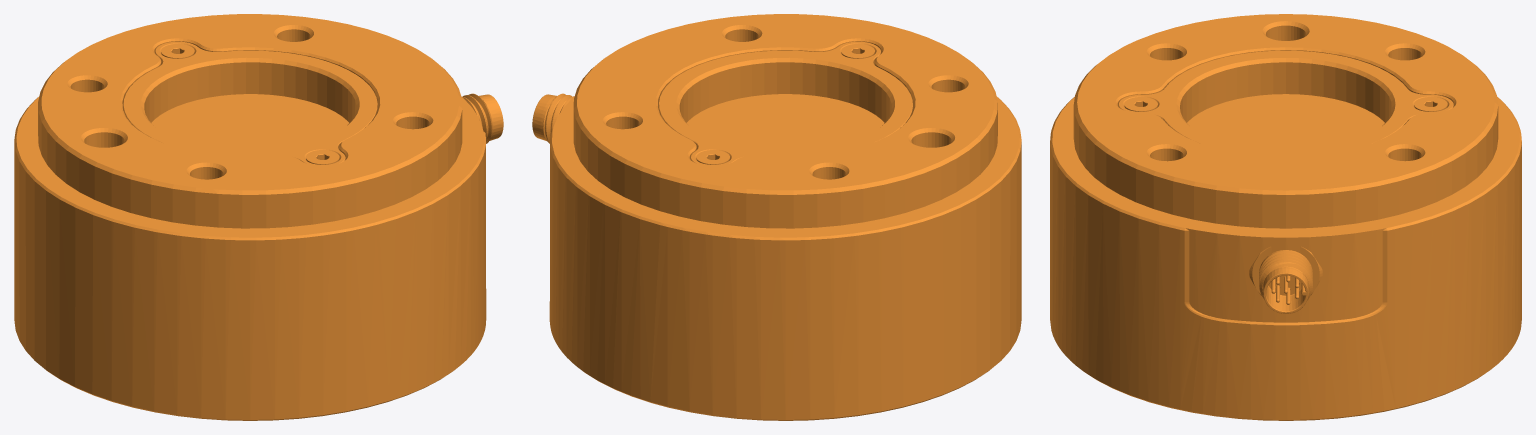
The model's file is DobotNova2Link6.dae.
3 renders of one model, left to right at view 1: azimuth 30°, elevation 25°; view 2: azimuth 150°, elevation 25°; view 3: azimuth 270°, elevation 25°, orthographic.
Visible parts, largest first — view 1: DobotNova2Link6; view 2: DobotNova2Link6; view 3: DobotNova2Link6.
Part boxes in pixels (x1,y1,x2,y2): DobotNova2Link6: (14,14,503,420); DobotNova2Link6: (532,14,1021,420); DobotNova2Link6: (1050,14,1521,420).
Bounding box in the file's own units: 0.0765 × 0.07 × 0.036.
